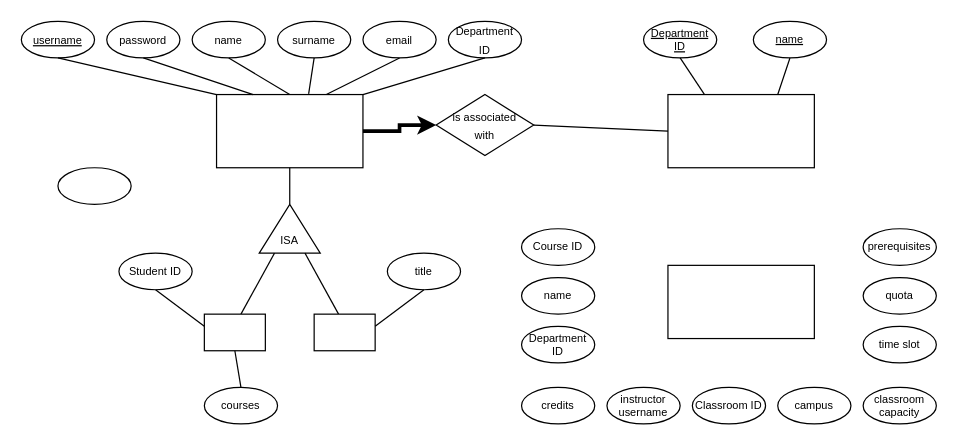
The diagram is 958 pixels wide and 445 high, and some of its shapes have lost their labels. The shapes that lost their labels are listed below. From the top down, each one's centre as x and y in pixels, then its label:
(x=289, y=130): User
(x=740, y=130): Department
(x=740, y=301): Course
(x=234, y=332): Student
(x=344, y=332): Instructor
